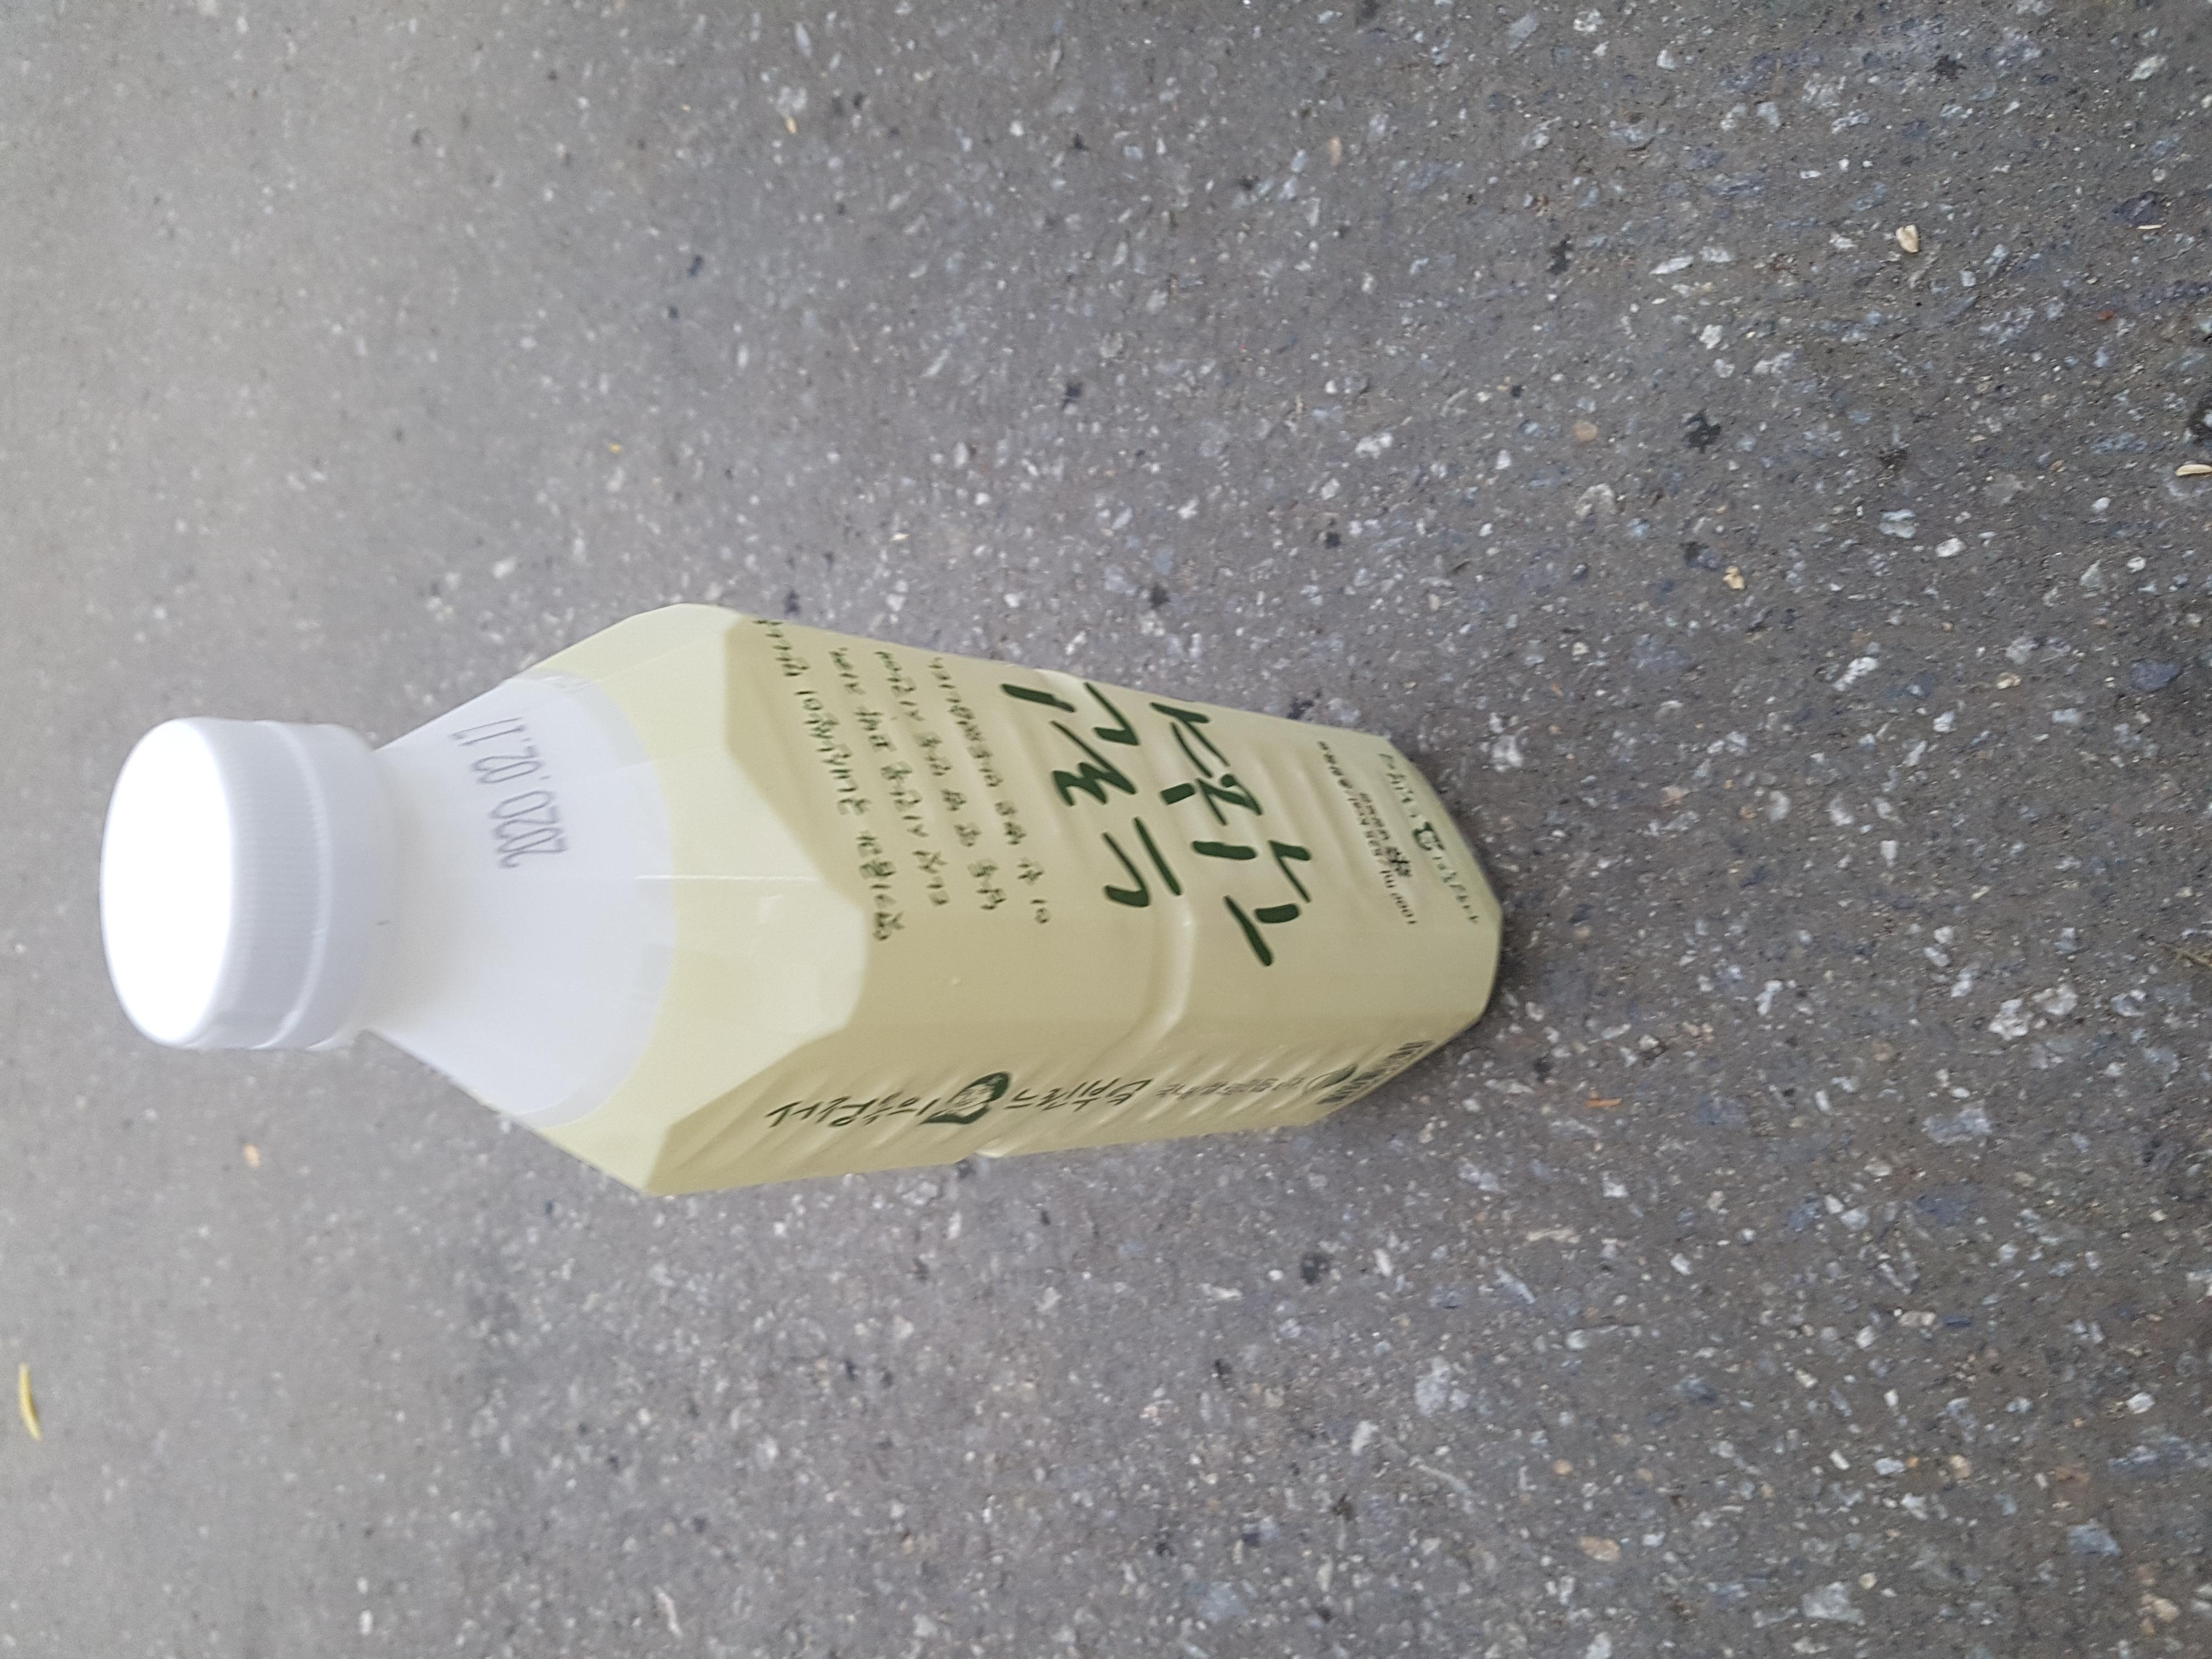bottle: (685, 54, 1359, 1159)
